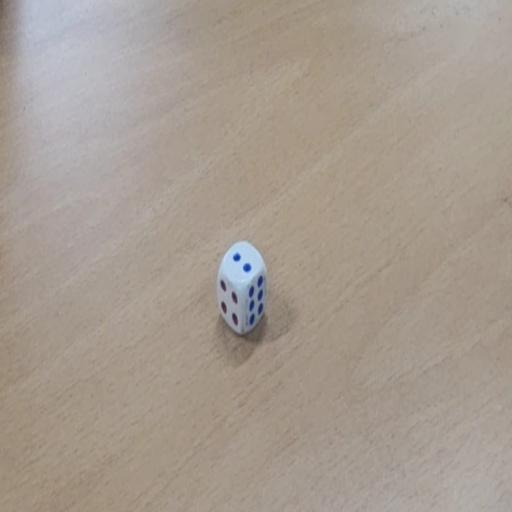dice_2: (216, 240, 269, 337)
